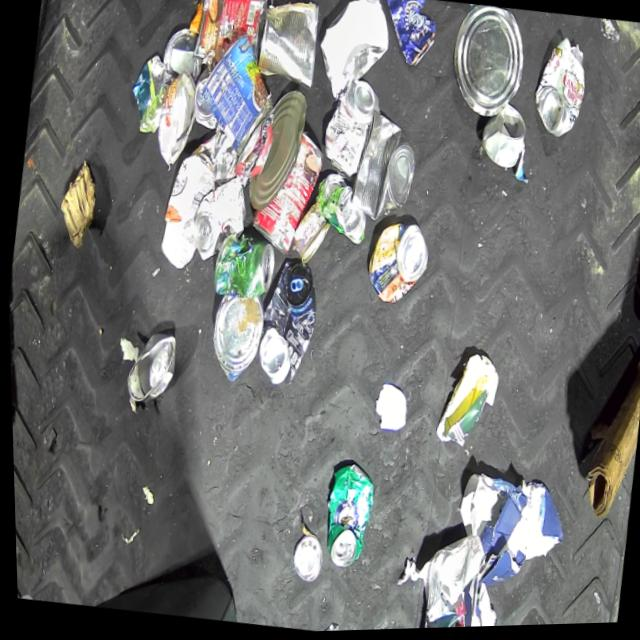can: (192, 28, 285, 163), (244, 127, 328, 261), (443, 4, 533, 127), (249, 260, 323, 392), (345, 110, 423, 229), (242, 87, 310, 216), (527, 37, 594, 145), (317, 78, 384, 183), (316, 463, 377, 575), (253, 0, 324, 94), (361, 221, 432, 311), (188, 173, 252, 268), (203, 294, 266, 387), (190, 0, 269, 72), (152, 68, 202, 171), (211, 232, 279, 305), (376, 0, 441, 75), (120, 328, 179, 409), (310, 172, 372, 249), (476, 102, 530, 174), (287, 203, 333, 268), (159, 25, 207, 85), (190, 67, 224, 133), (287, 535, 322, 587)
